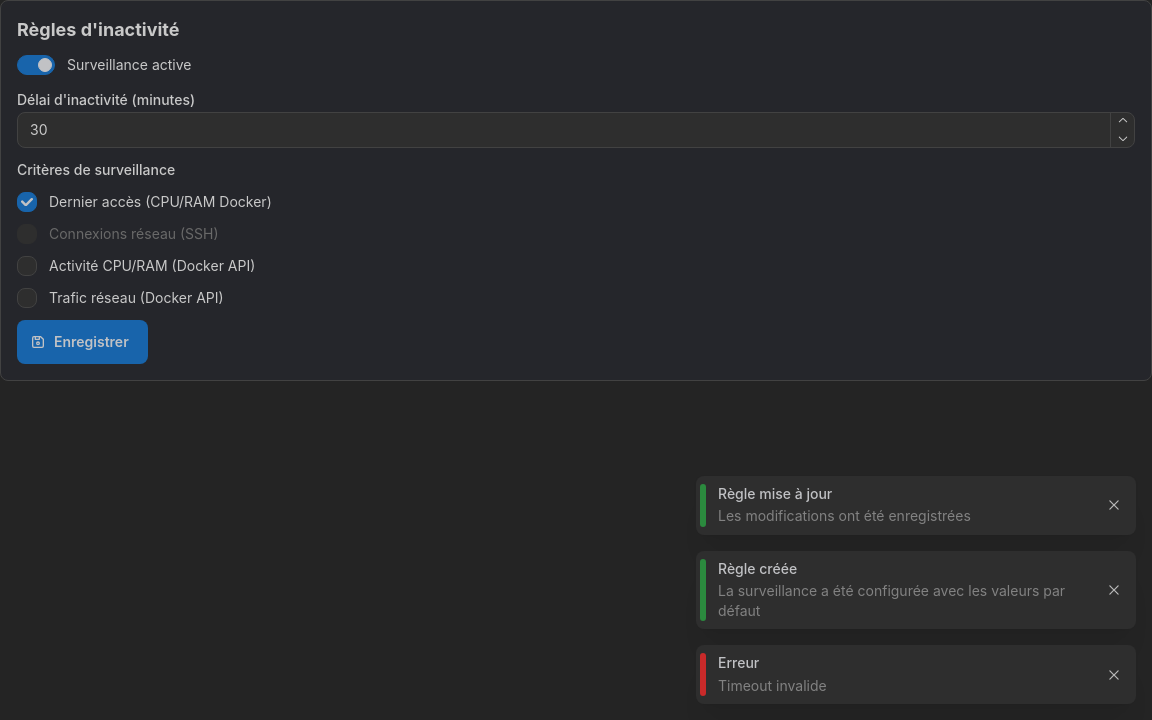
it: InactivityRulesSection — configurable thresholds › should show network traffic threshold after enabling networkTraffic checkbox
The image size is (1152, 720).
Expected: the field labelled "seuil trafic réseau" is not shown
Enable networkTraffic
Step 1. Click the checkbox labelled "Trafic réseau (Docker API)" → [27, 298], box x1=17 y1=288 x2=37 y2=308
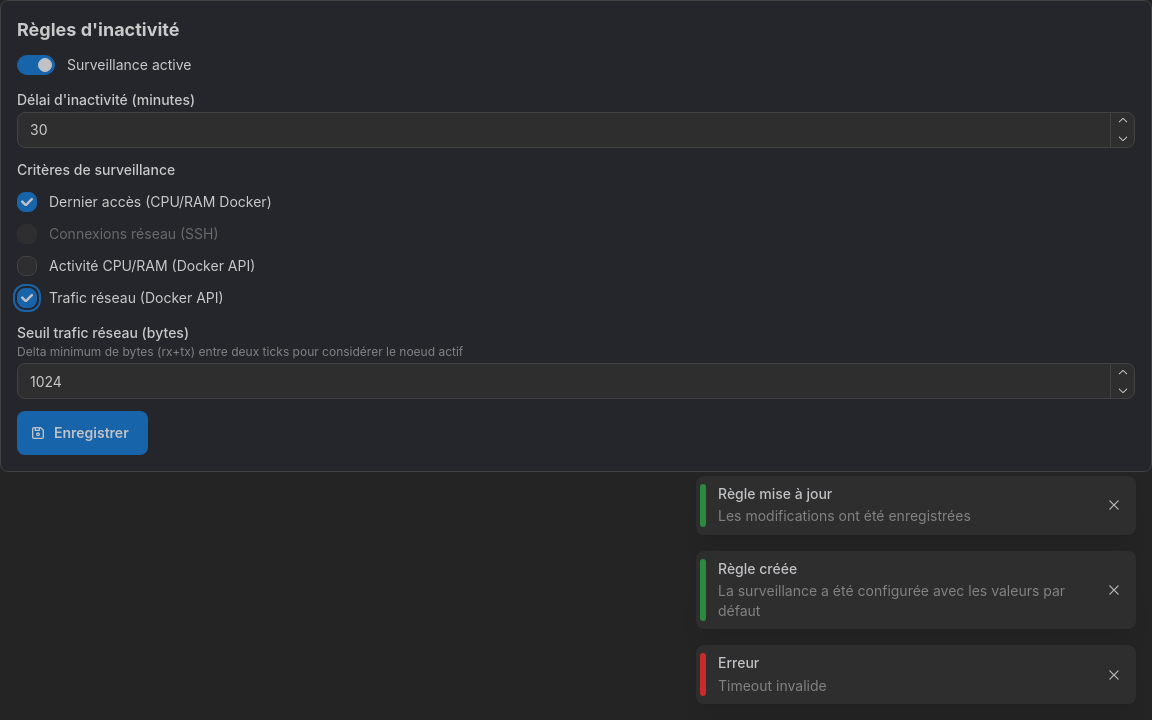
Expected: the field labelled "Seuil trafic réseau (bytes)" holds "1024", x1=17 y1=363 x2=1135 y2=399
